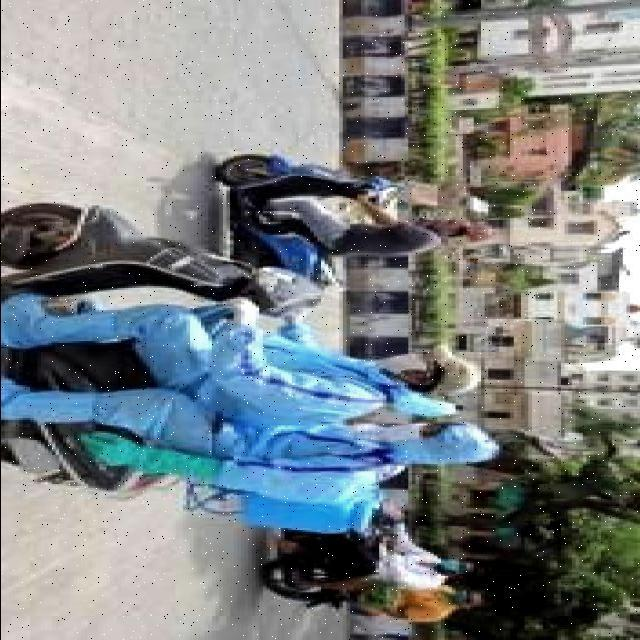apron: (80, 431, 222, 491), (222, 290, 264, 346)
gloves: (444, 421, 508, 486)
mask: (376, 416, 422, 448), (377, 354, 424, 378), (441, 556, 461, 576), (456, 584, 469, 612)
no_gloves: (434, 333, 481, 412)
